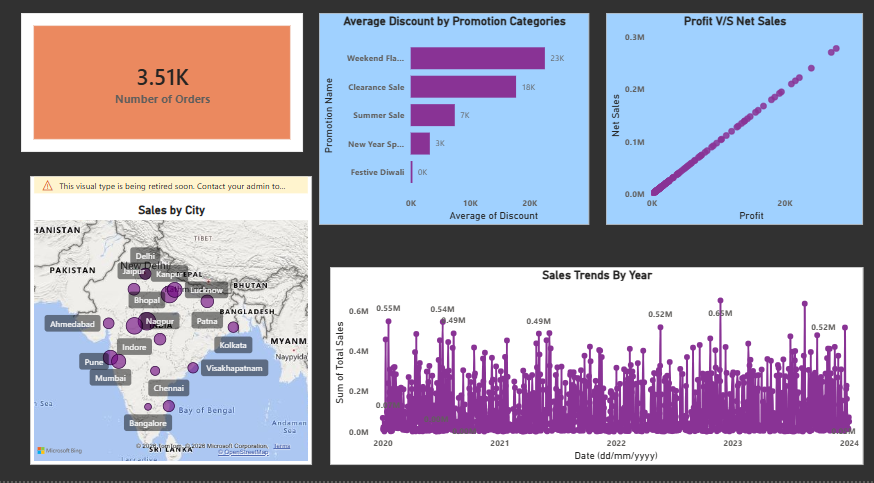

The dashboard page shown, as its layout file describes it:
{"tool":"powerbi","page":{"name":"Overview","canvas":[1280,720],"ordinal":0},"visuals":[{"type":"lineChart","title":"Sales Trends By Year","fields":{"Y":["Sum(Fact Table.Total Sales)"],"Category":["Fact Table.Date (dd/mm/yyyy).Variation.Date Hierarchy.Year"]},"box":[478.1,411.8,767.5,285.1],"z":0},{"type":"scatterChart","title":"Profit V/S Net Sales","fields":{"Y":["Fact Table.Net Sales"],"X":["Fact Table.Profit"]},"box":[875.5,46.1,370.1,305.3],"z":1000},{"type":"barChart","title":"Average Discount by Promotion Categories","fields":{"Y":["Avg(Fact Table.Discount)"],"Category":["Dim Promotion.Promotion Name"]},"box":[462.2,46.1,388.8,305.3],"z":2000},{"type":"map","title":"Sales by City","fields":{"Category":["Dim Customers.City"],"Size":["Sum(Fact Table.Net Sales)"]},"box":[46.1,280.8,406.1,416.2],"z":3000},{"type":"cardVisual","fields":{"Data":["Count(Fact Table.Order ID)"]},"box":[33.1,46.1,406.1,200.2],"z":4000}]}

Visuals, with their boxes in screenshot pixels (x1, y1, x2, y2), scaled from the page's 1280x720 canvas onto the 874x483 screenshot:
"Sales Trends By Year" lineChart: region(326, 276, 851, 468)
"Profit V/S Net Sales" scatterChart: region(598, 31, 851, 236)
"Average Discount by Promotion Categories" barChart: region(316, 31, 581, 236)
"Sales by City" map: region(31, 188, 309, 468)
cardVisual - Count(Fact Table.Order ID): region(23, 31, 300, 165)
